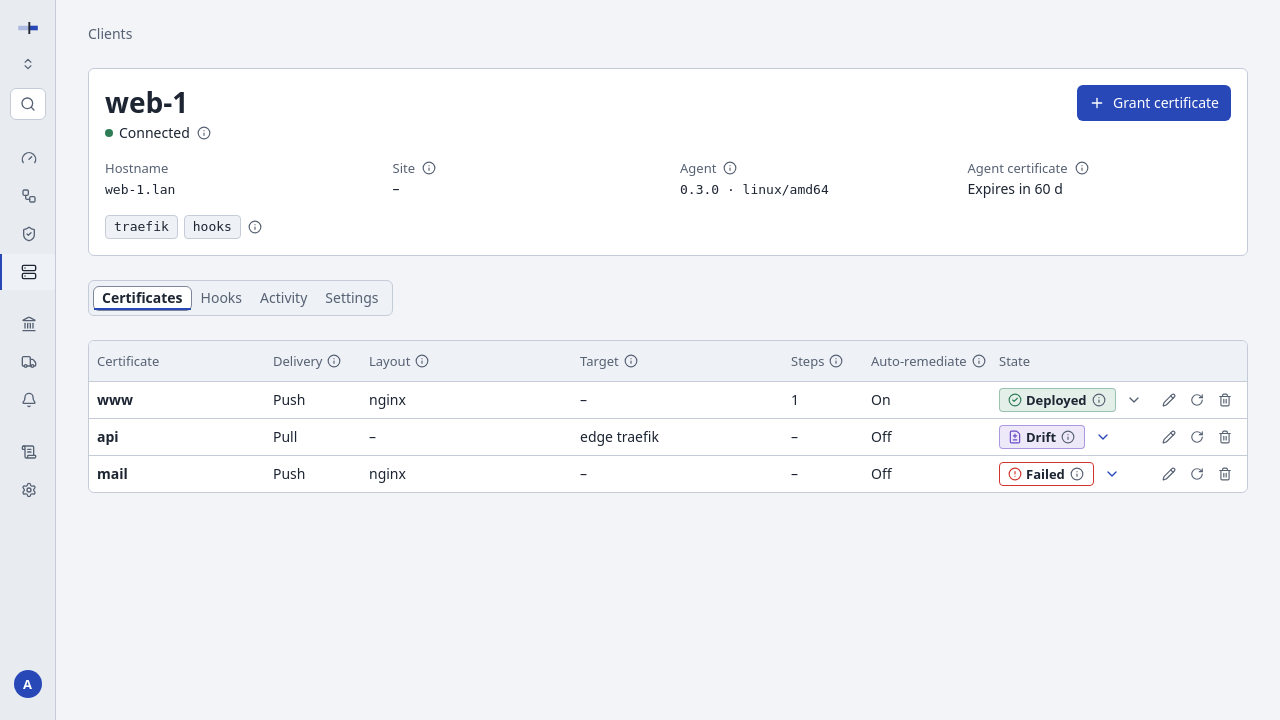
it: removes a grant after the certificate name is typed
This screenshot has width=1280, height=720.
Step 1. Click the button named "Remove www" → (1225, 400), box [1211,386,1239,414]
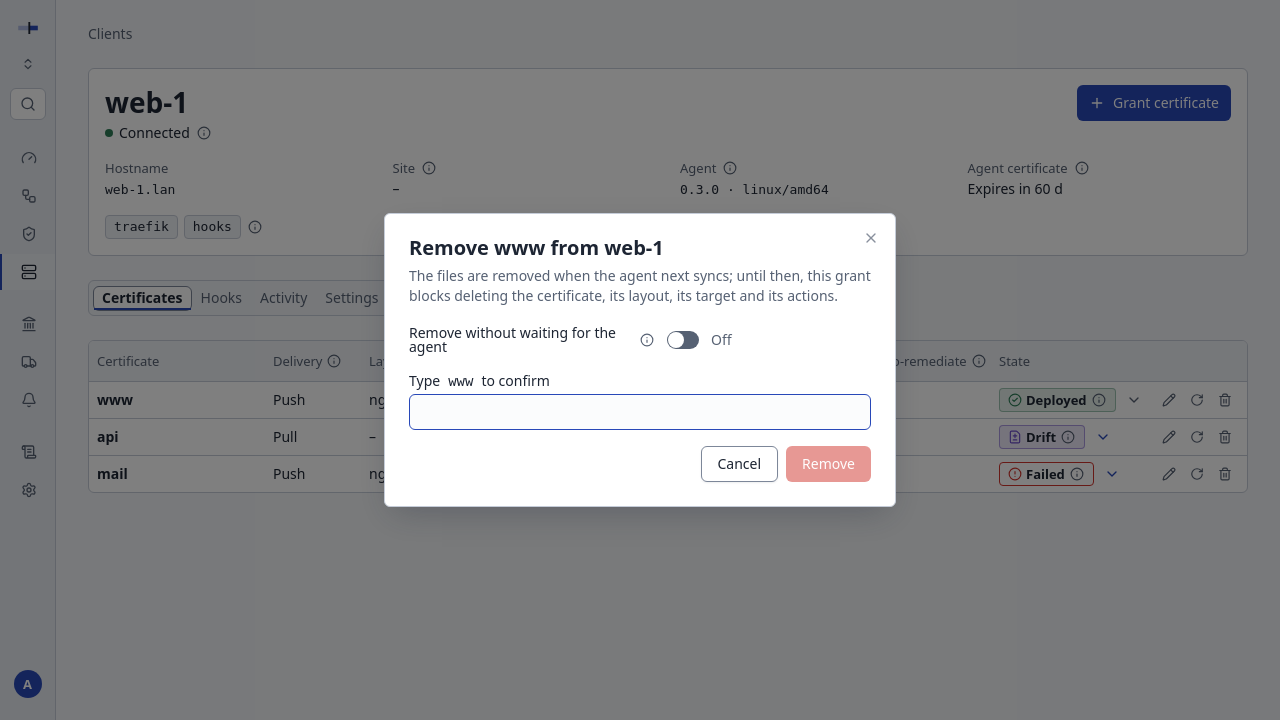
Step 2. Type "www" into the field labelled "Type www to confirm" → (640, 412), box [409,394,871,430]
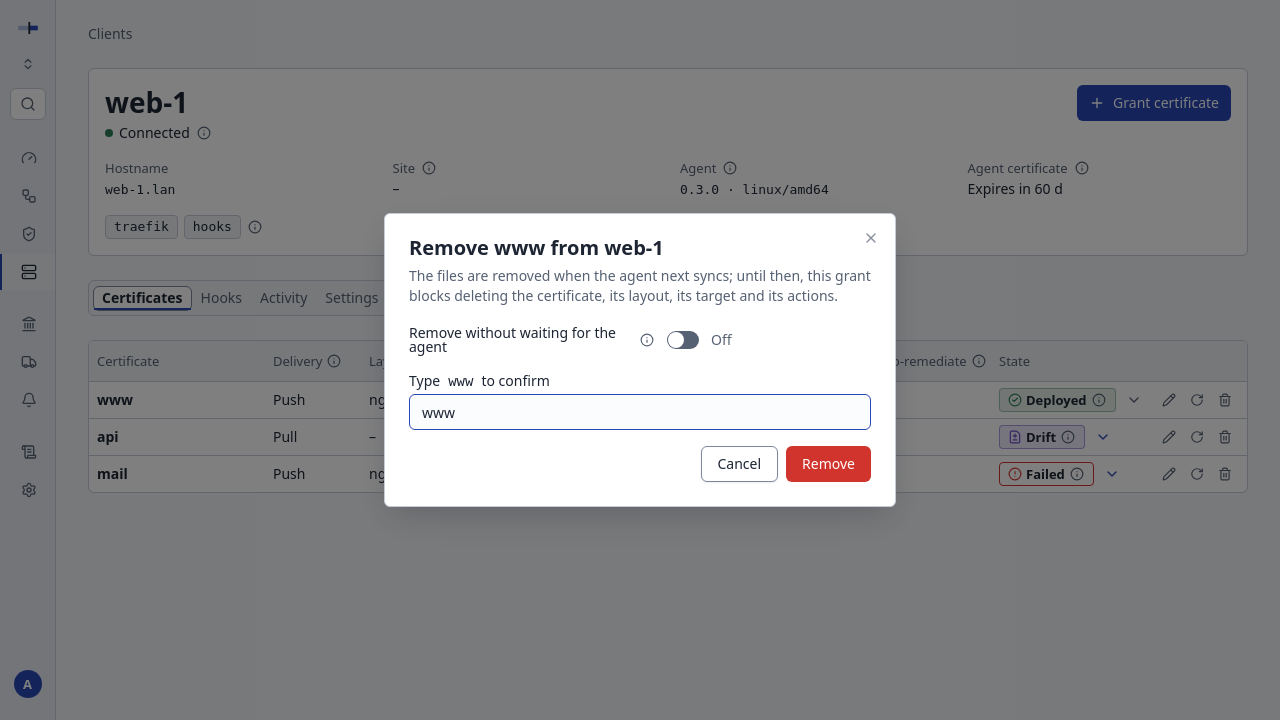
Step 3. Click the button "Remove" → (829, 464), box [786,446,871,482]
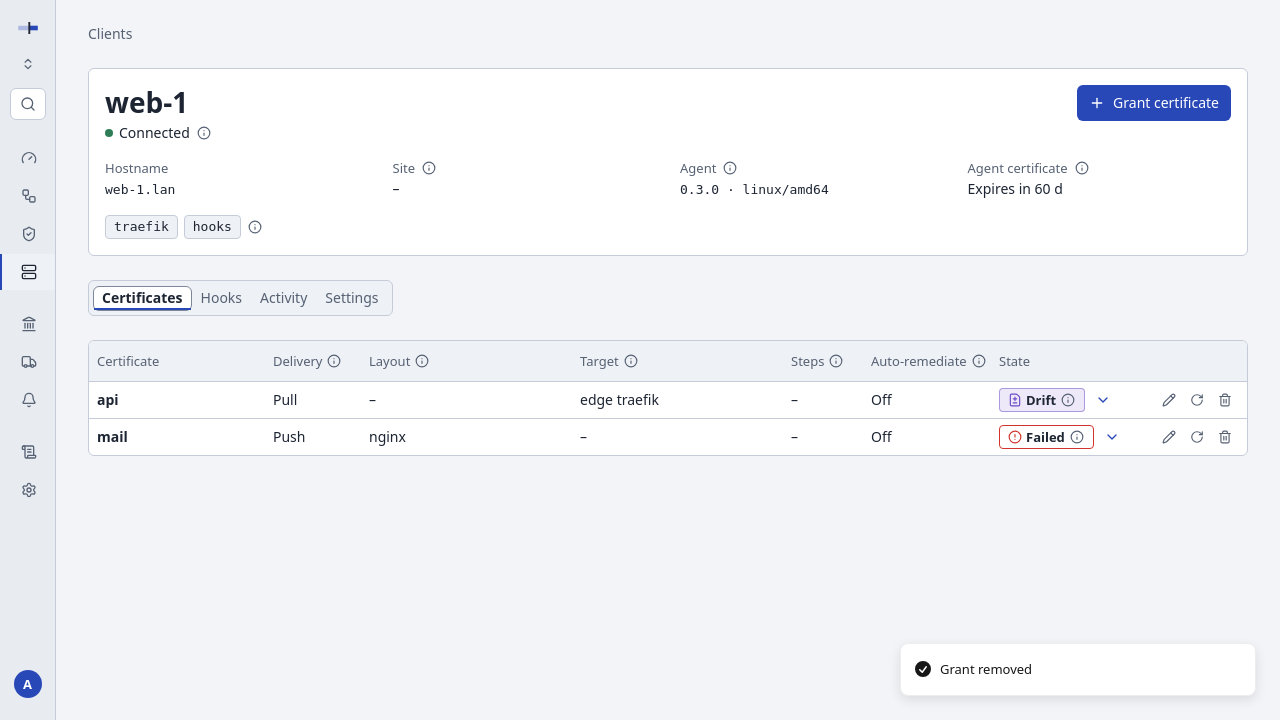
Check: the link "www" is gone
